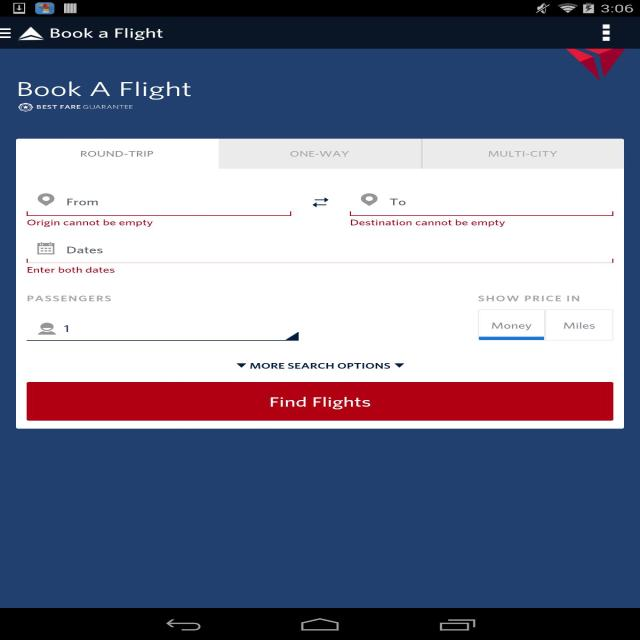button: (26, 383, 612, 421), (218, 138, 420, 169), (423, 140, 624, 168), (19, 141, 216, 169), (481, 310, 612, 340), (233, 359, 412, 374), (589, 23, 618, 46), (304, 192, 336, 212)
field: (28, 236, 615, 262), (347, 188, 615, 218), (26, 313, 300, 342), (27, 190, 291, 217)
heading: (15, 78, 196, 100), (48, 23, 167, 42)
image: (20, 24, 44, 45)
label: (61, 243, 105, 256), (62, 197, 109, 206), (384, 193, 408, 208)
text: (348, 217, 510, 231), (24, 101, 143, 115), (25, 218, 156, 230), (25, 264, 122, 277), (24, 294, 113, 305), (57, 321, 76, 336)
